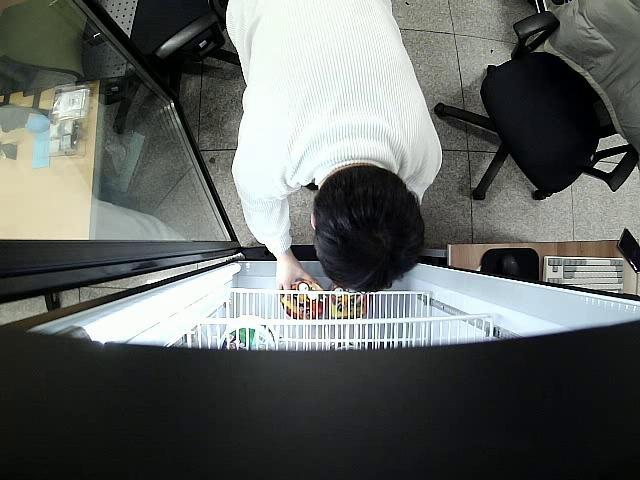05_nuguri_L: (282, 280, 325, 320)
